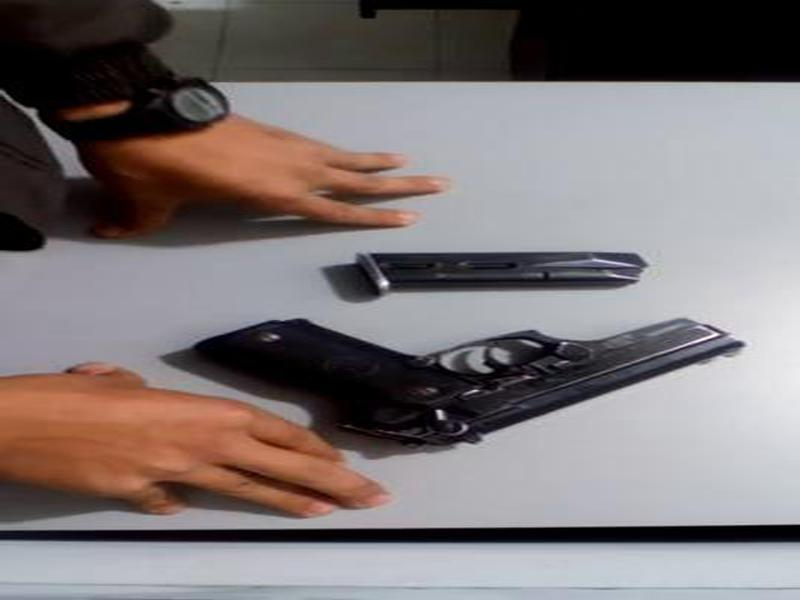Pistola: (188, 273, 761, 448)
